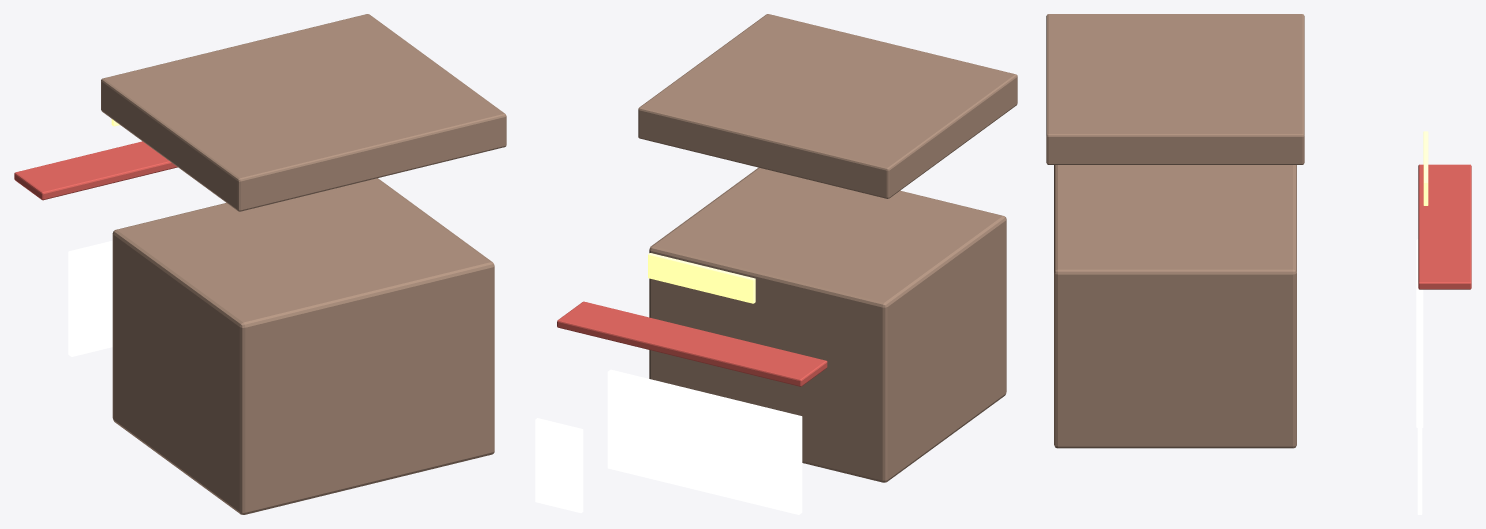
The model's file is building_shop.glb.
3 renders of one model, left to right at view 1: azimuth 30°, elevation 25°; view 2: azimuth 150°, elevation 25°; view 3: azimuth 270°, elevation 25°, orthographic. The views are drawn at different scales.
Parts seen in each view (by area): view 1: shop_base; view 2: shop_base; view 3: shop_base.
Boxes of the visible parts, x1,y1,x2,y2 form: shop_base: (14,14,506,514); shop_base: (535,14,1017,514); shop_base: (1046,14,1471,514).
Bounding box in the file's own units: 4.45 × 5.22 × 5.6.
